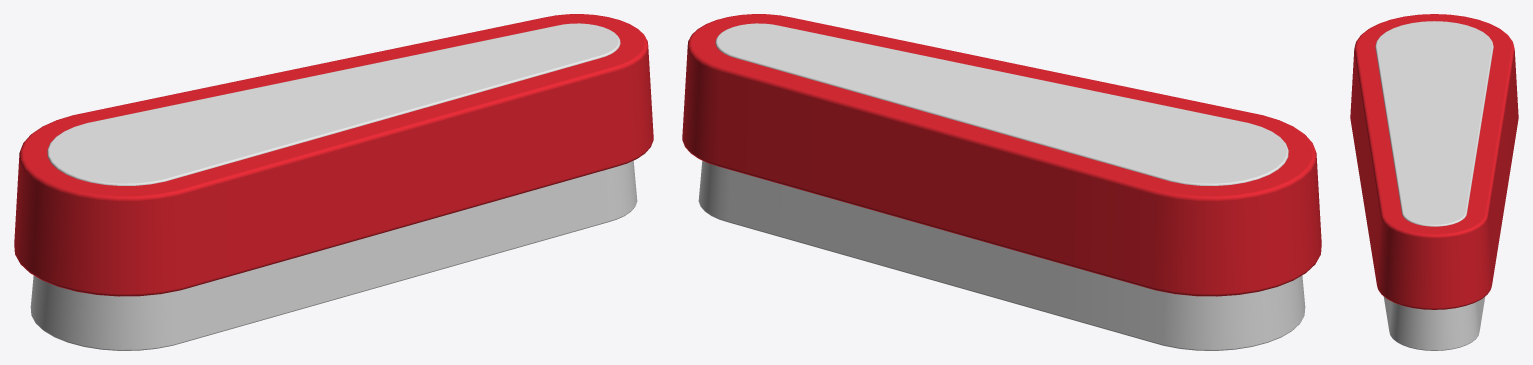
The model's file is Flipper, Bally, Flat (3in) - Hipoly.fbx.
The picture shows the model from 3 angles, left to right: view 1: azimuth 30°, elevation 25°; view 2: azimuth 150°, elevation 25°; view 3: azimuth 270°, elevation 25°; orthographic projection. The views are drawn at different scales.
Visible parts, largest first — view 1: Flipper, Bally, Flat, 3"; view 2: Flipper, Bally, Flat, 3"; view 3: Flipper, Bally, Flat, 3".
Boxes of the visible parts, x1=… form: Flipper, Bally, Flat, 3": x1=14, y1=14, x2=653, y2=350; Flipper, Bally, Flat, 3": x1=682, y1=14, x2=1321, y2=350; Flipper, Bally, Flat, 3": x1=1350, y1=14, x2=1518, y2=350.
Bounding box in the file's own units: 8.31 × 2.07 × 2.62.
